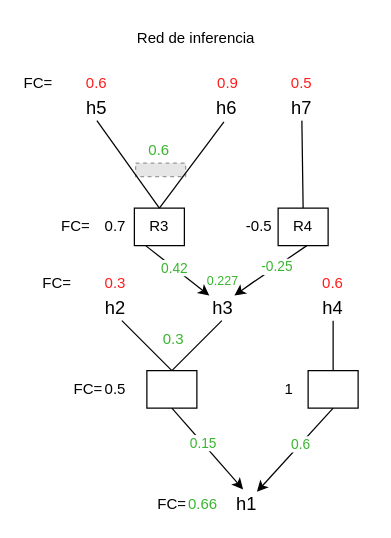
The diagram is 391 pixels wide and 538 high, and some of its shapes have lost their labels. Grey dashed boxes stand in for pictures. The centre of each missing label's shape, as x and y in pixels:
R1: the point at 171,388
R2: the point at 332,388
